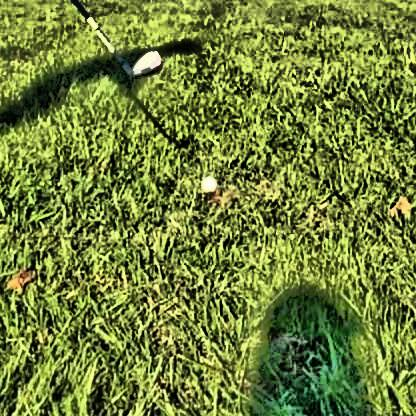golfball: (198, 172, 215, 191)
